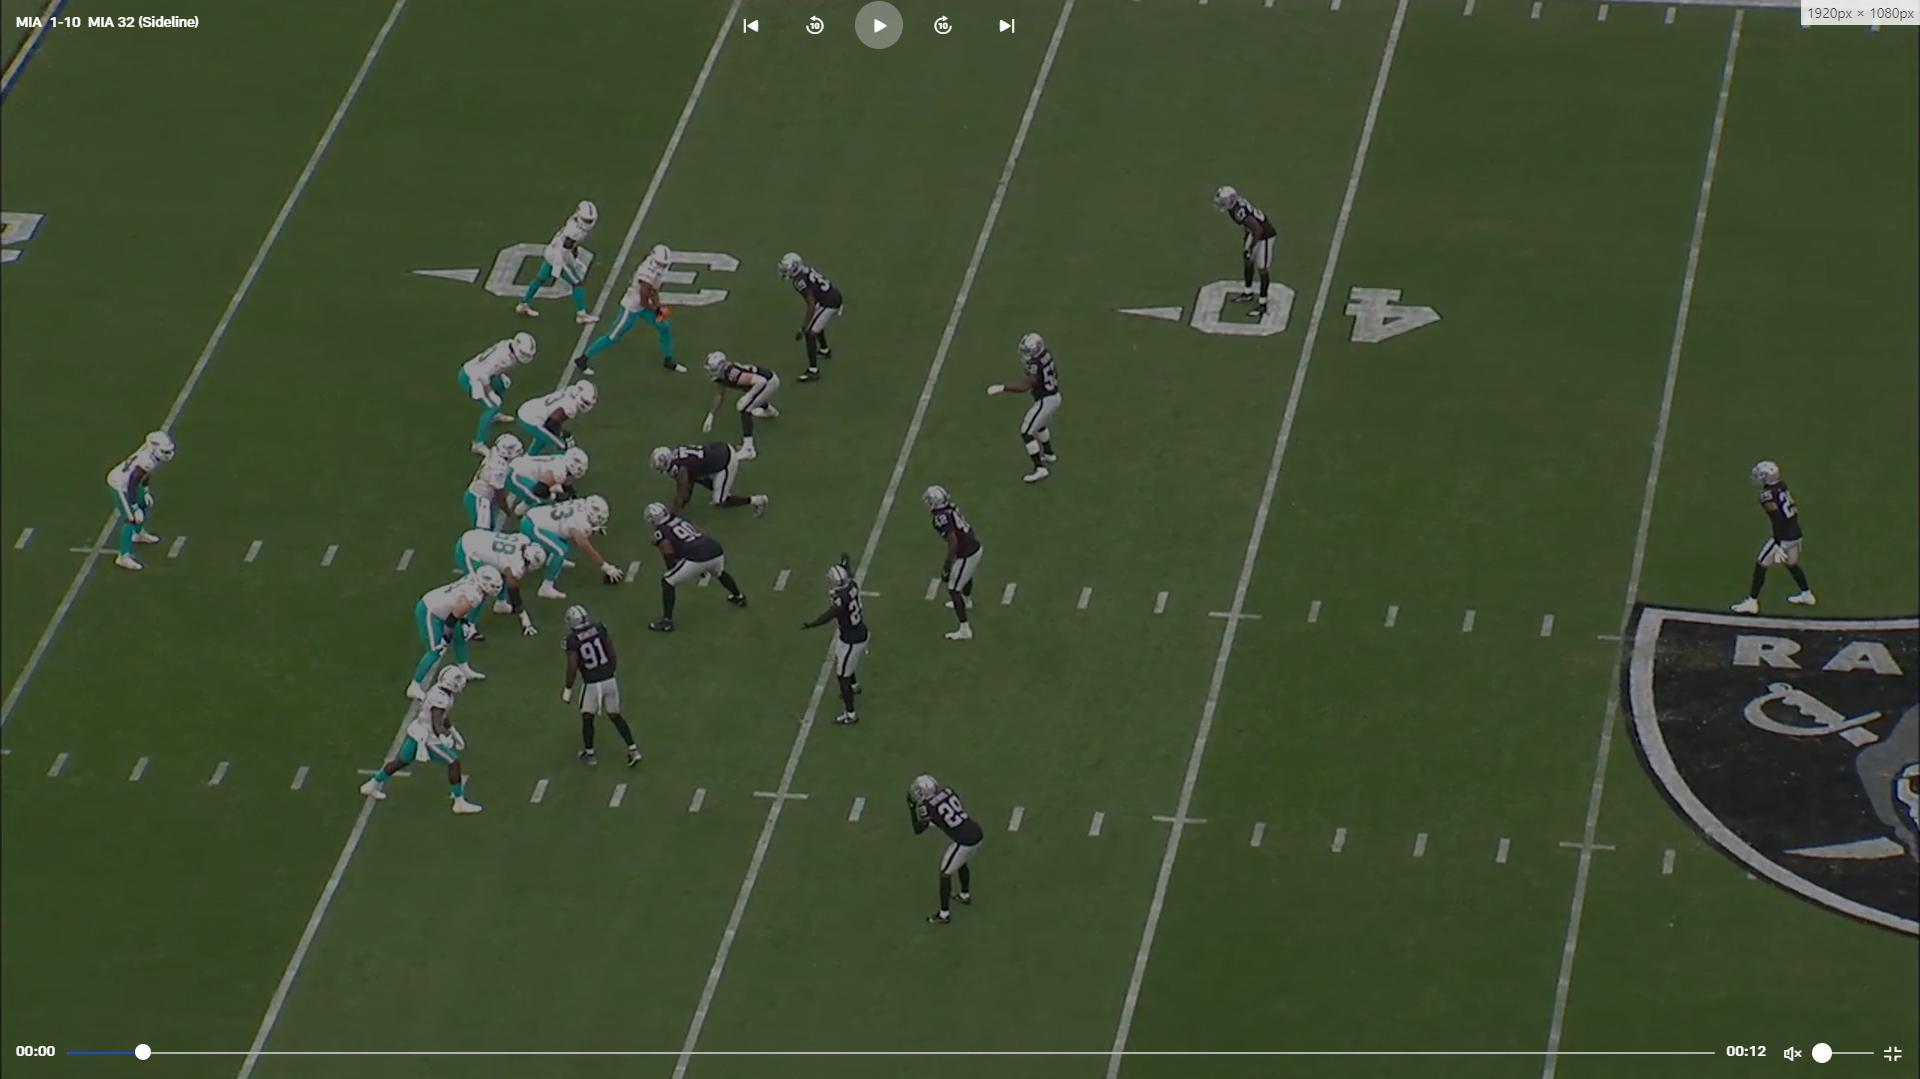defense: (638, 504, 752, 641), (567, 601, 653, 776), (1726, 458, 1815, 620), (905, 772, 985, 931), (989, 326, 1065, 491), (808, 554, 876, 737), (916, 484, 982, 652), (651, 441, 777, 524), (779, 252, 849, 389), (705, 348, 786, 459), (1218, 183, 1280, 305)
oline: (406, 570, 498, 698), (521, 493, 621, 599), (455, 533, 539, 645), (517, 379, 596, 455), (514, 443, 593, 507)
qb: (459, 433, 521, 543)
skill: (363, 663, 483, 818), (583, 240, 688, 380), (512, 194, 603, 327), (102, 425, 179, 567), (463, 328, 542, 455)
